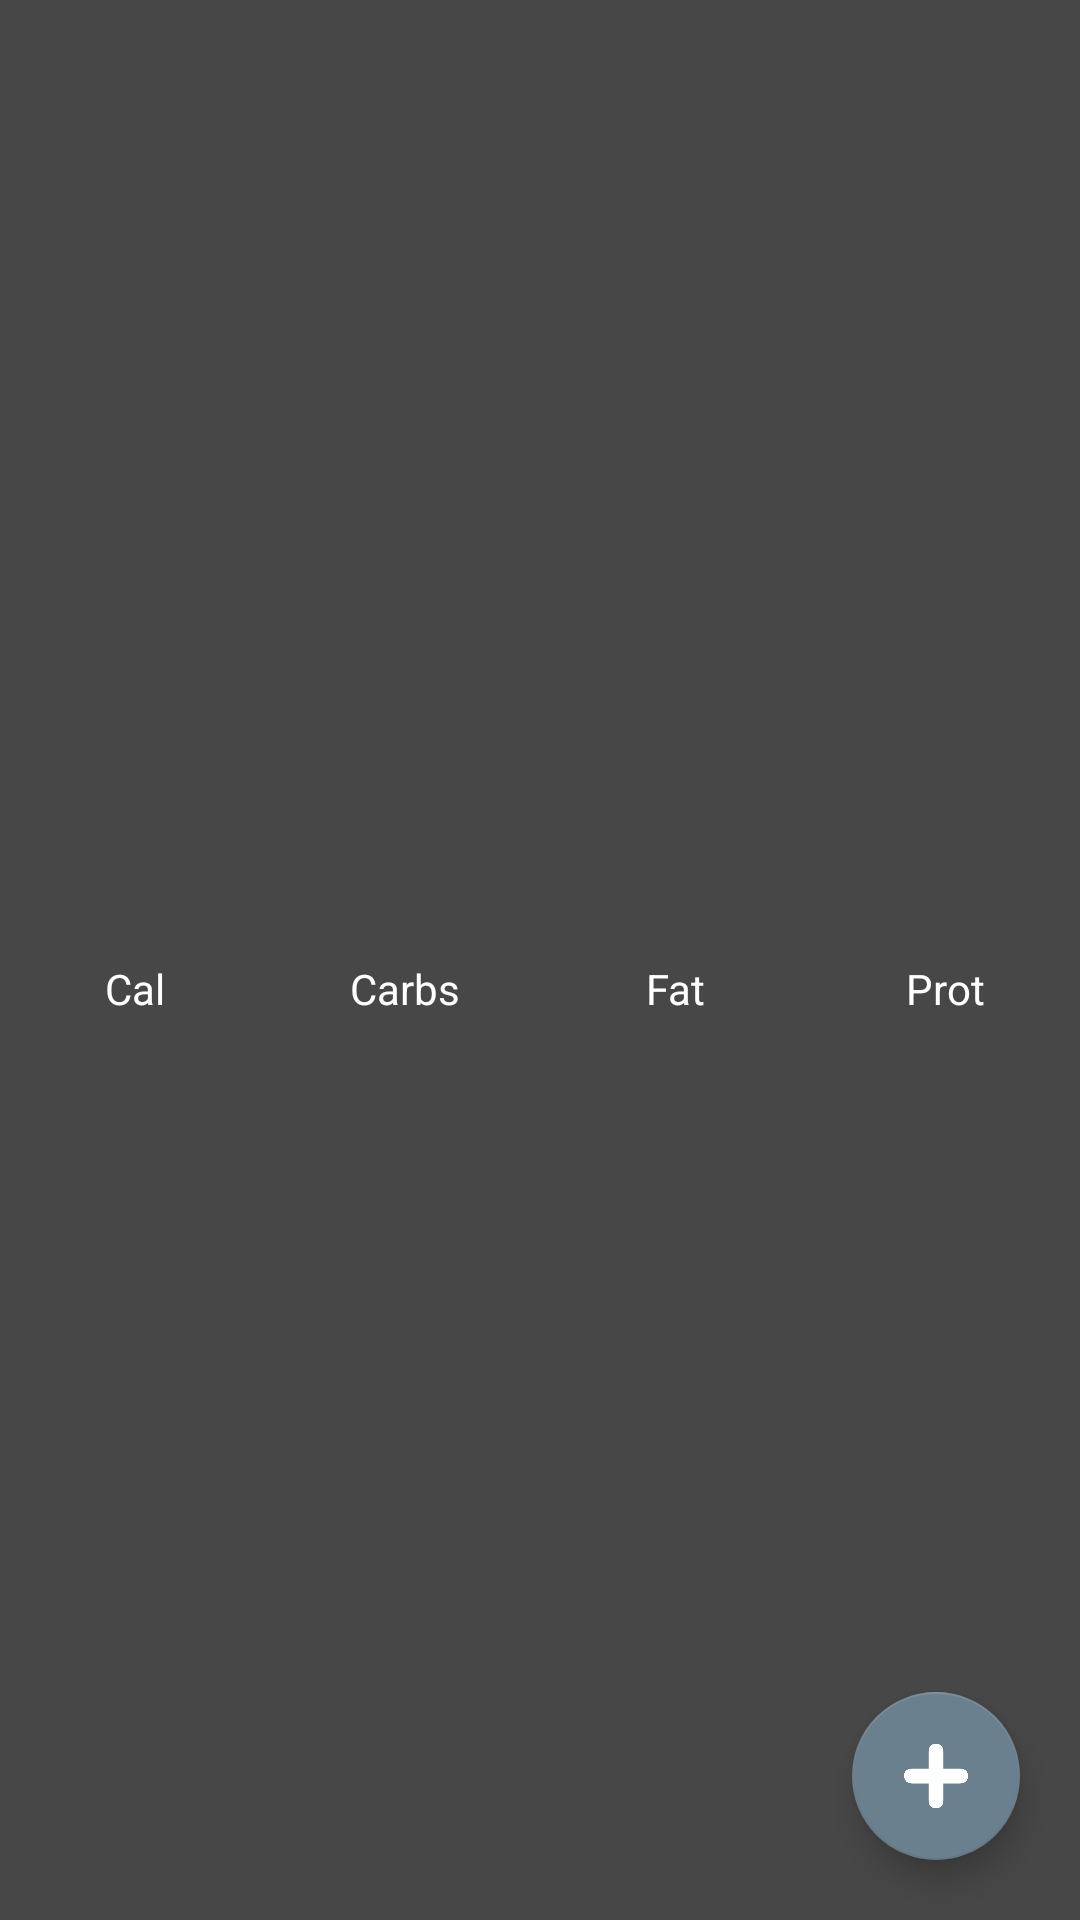

Where to tap for icons on this 1080 × 1920 app screen, as (x,y):
plus: (936,1776)
